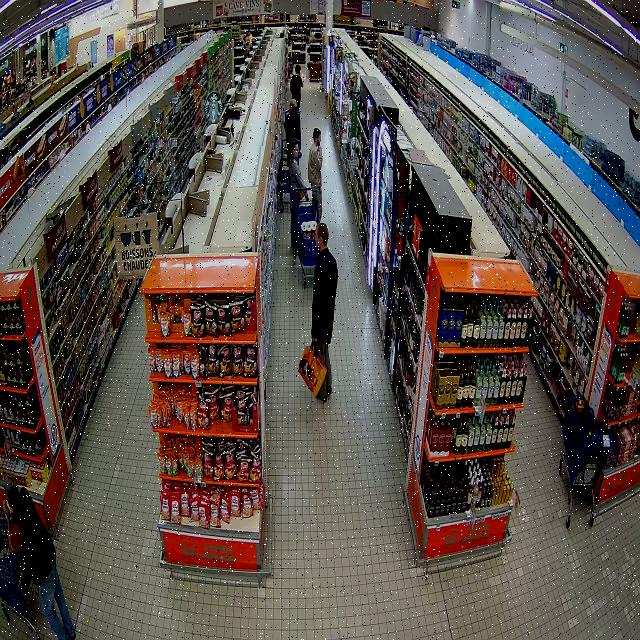bags: (298, 191, 305, 199)
hands: (3, 500, 17, 554), (318, 146, 322, 158), (311, 336, 318, 342), (305, 192, 309, 200)
person: (3, 475, 76, 640), (311, 222, 338, 402), (287, 140, 310, 249), (308, 128, 322, 220), (283, 97, 302, 142)
